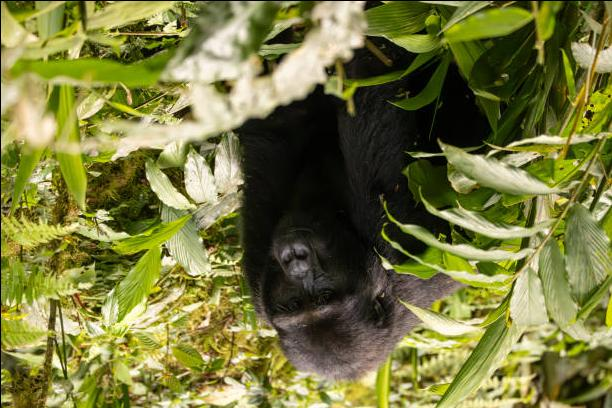goriile_montagne: (214, 82, 486, 395)
